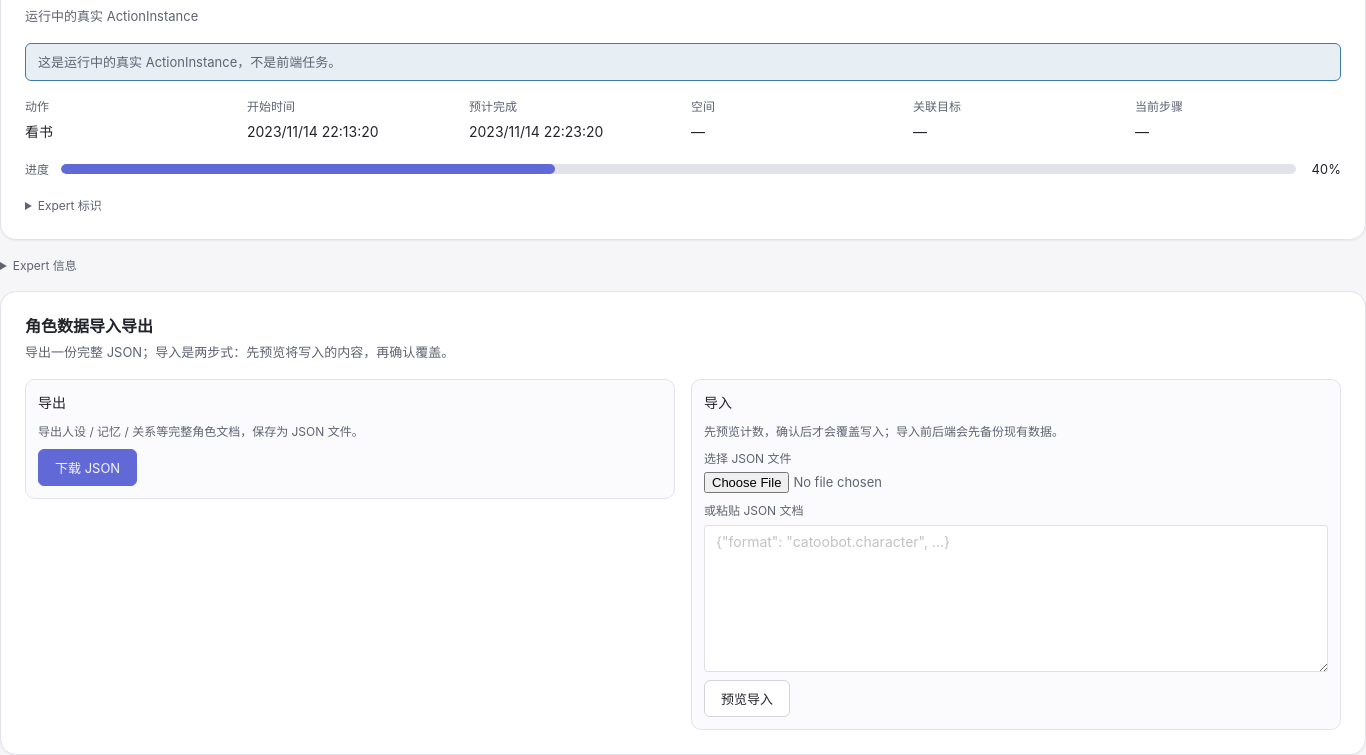
Test case: Character 页 · 角色数据导入导出 › 导出失败展示后端 message 且不触发下载
The width and height of the screenshot is (1366, 755).
(page scrolled)
Click the button with test id "character-export".
click(88, 468)  # box [38,449,137,486]
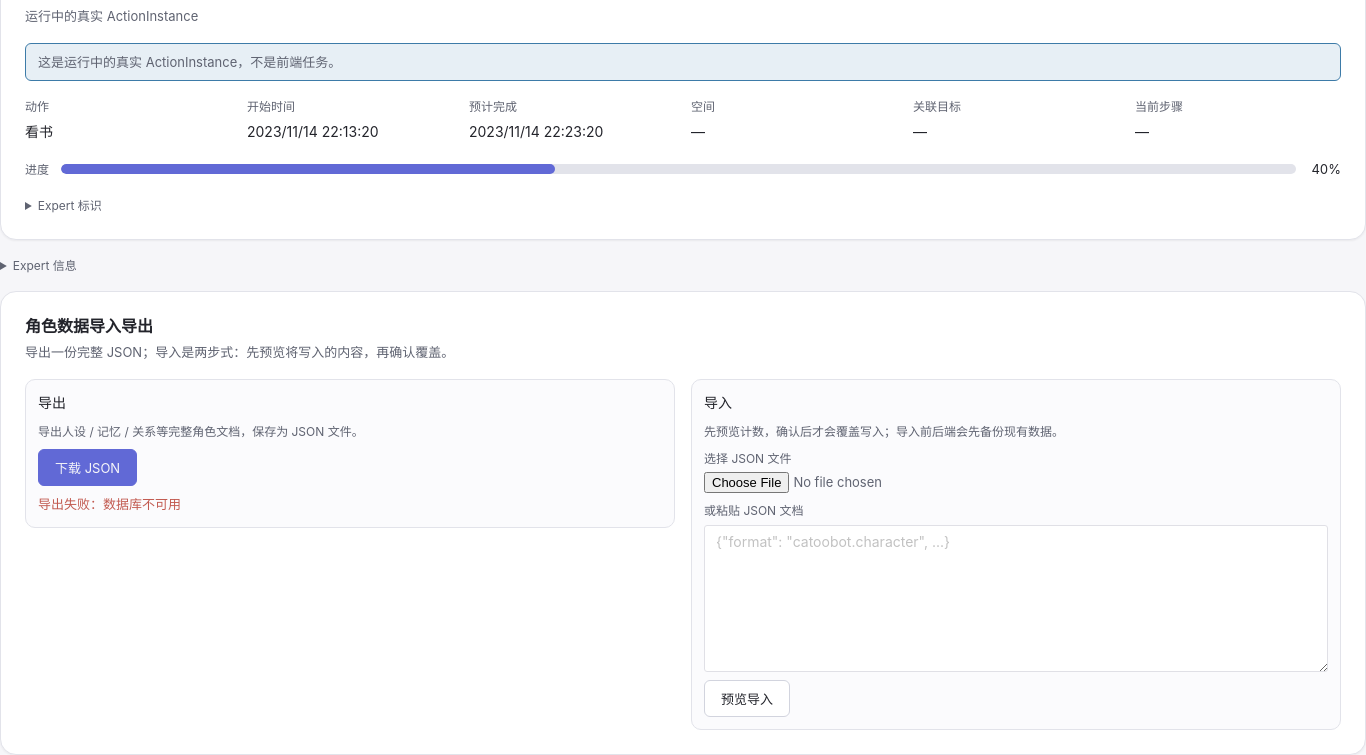
Now the message with test id "character-export-error" shows "数据库不可用", box [38,496,181,512]
